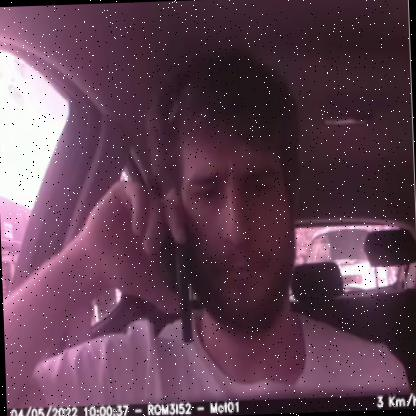phone: (157, 178, 203, 353)
